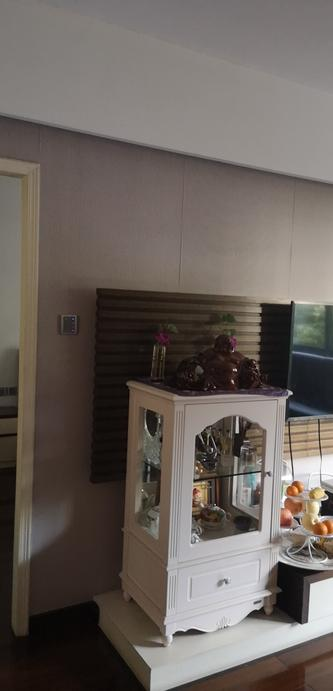switch: (59, 314, 85, 338)
